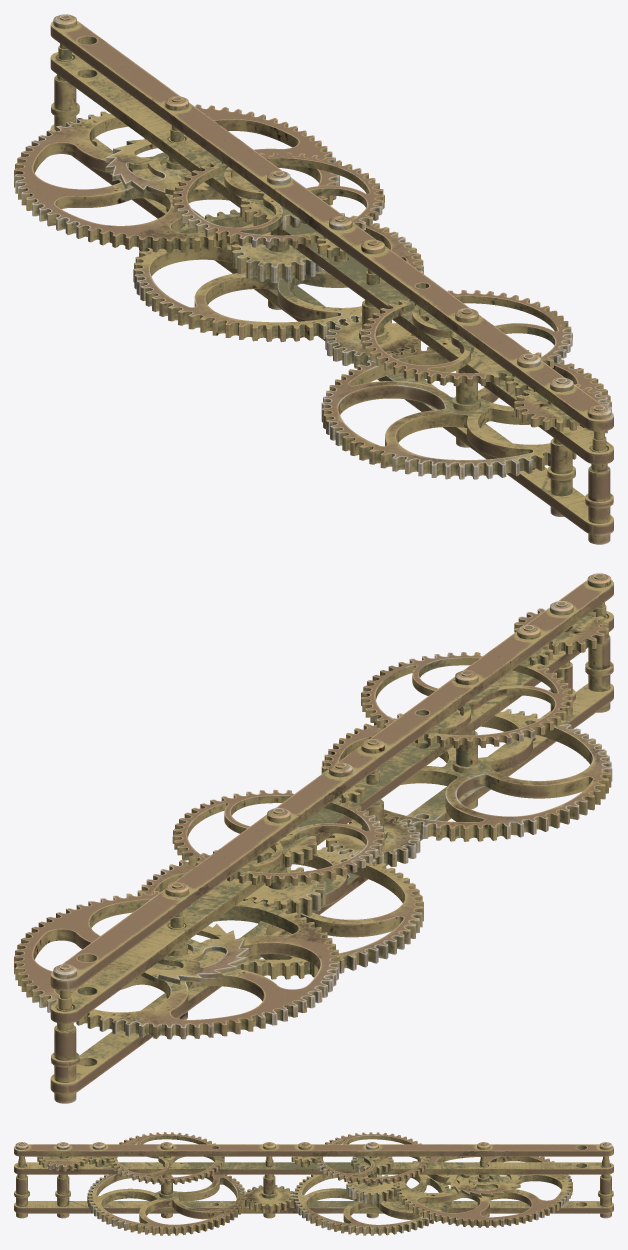
Rendered from gears_-_ingralarghi.glb.
3 views of the same model, one above another, from view 1: azimuth 30°, elevation 25°; view 2: azimuth 150°, elevation 25°; view 3: azimuth 270°, elevation 25° (orthographic). The views are drawn at different scales.
Parts seen in each view (by area): view 1: Ingralarghi; view 2: Ingralarghi; view 3: Ingralarghi.
Part boxes in pixels (x1=…): Ingralarghi: x1=14, y1=14, x2=613, y2=544; Ingralarghi: x1=14, y1=573, x2=613, y2=1103; Ingralarghi: x1=14, y1=1132, x2=613, y2=1235.
Bounding box in the file's own units: 0.1871 × 0.0837 × 0.6299.
Materials: 1 (1 with a texture image).
